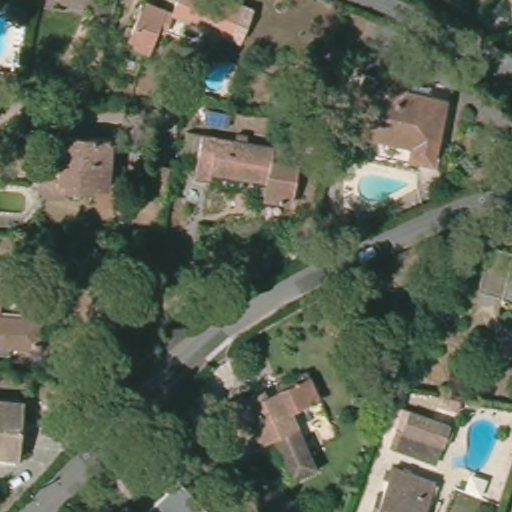pool: (350, 167, 416, 210), (459, 412, 502, 473), (201, 58, 242, 100), (1, 16, 29, 69), (195, 105, 236, 133)
